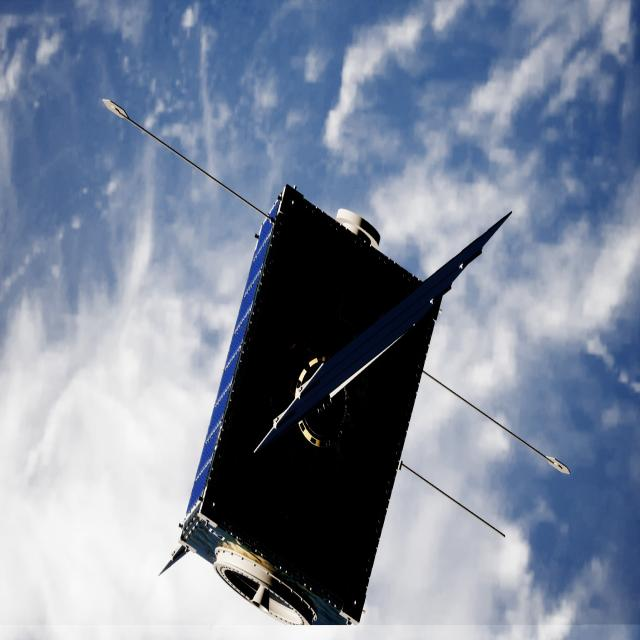medium_debris: (169, 187, 496, 628)
